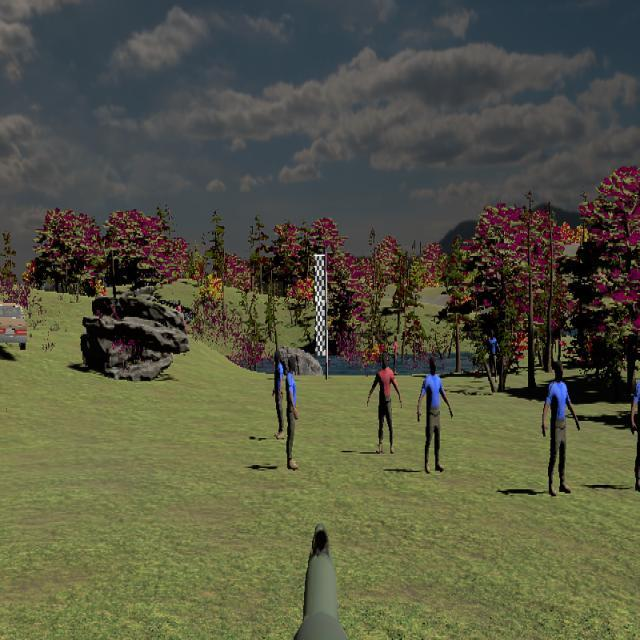Human: (542, 361, 580, 496), (417, 356, 453, 474), (367, 354, 402, 453), (285, 353, 299, 470), (272, 350, 285, 438)
car: (0, 301, 28, 351)
